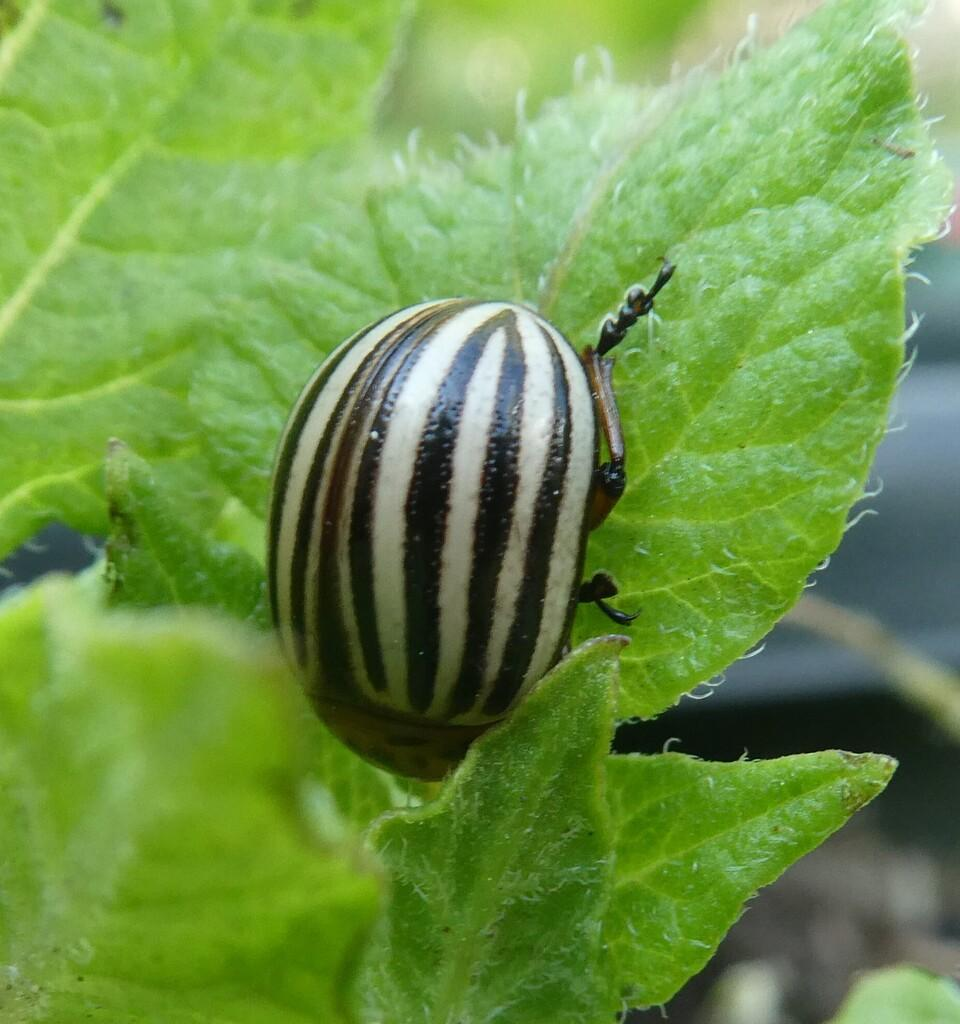potato_beetle: (172, 212, 723, 824)
